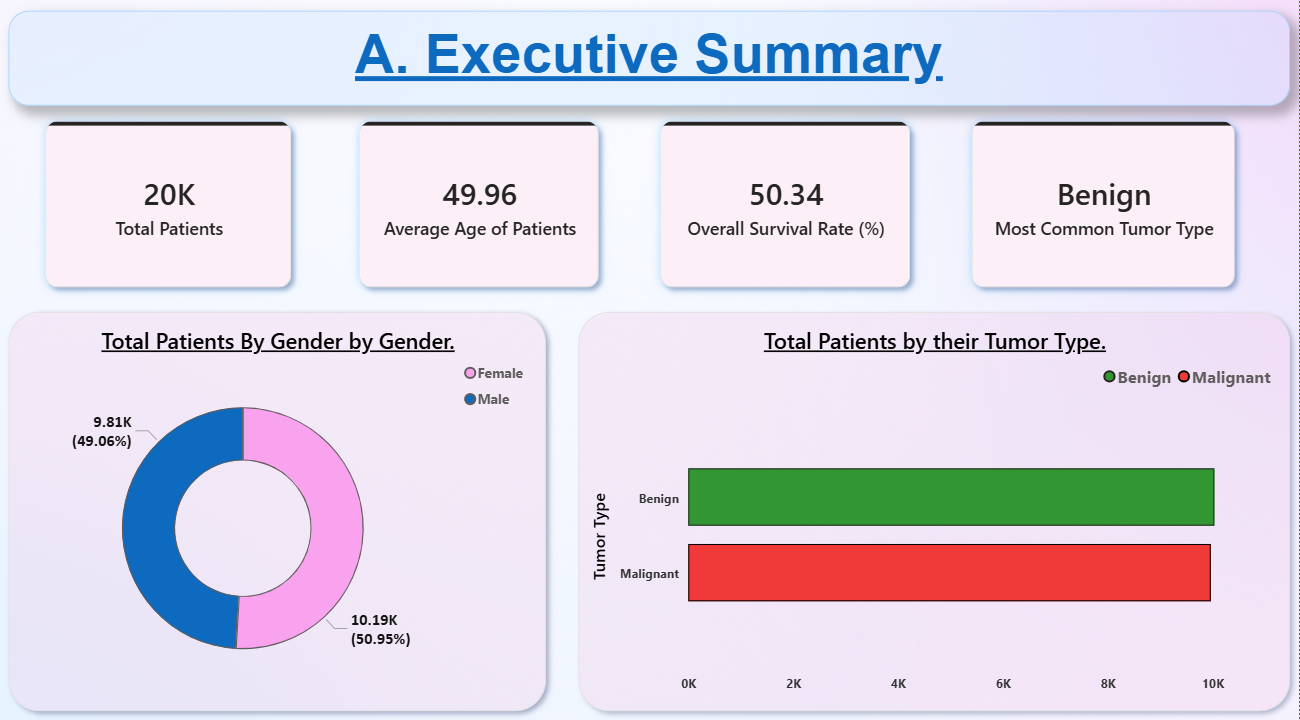

What the dashboard file says about the page in this screenshot:
{"tool":"powerbi","page":{"name":"Quick Summary","canvas":[1280,720],"ordinal":0},"visuals":[{"type":"cardVisual","fields":{"Data":["Count(cancer_diagnosis_data.Patient_ID)"]},"box":[29.3,102.7,288.6,210.3],"z":0},{"type":"textbox","box":[17.1,18.3,1253.4,92.9],"z":1000},{"type":"cardVisual","fields":{"Data":["Avg(cancer_diagnosis_data.Age)"]},"box":[336.3,102.7,282.5,210.3],"z":2000},{"type":"cardVisual","fields":{"Data":["cancer_diagnosis_data.Overall Survival Rate (%)"]},"box":[631,102.7,292.3,210.3],"z":3000},{"type":"cardVisual","fields":{"Data":["Min(cancer_diagnosis_data.Tumor_Type)"]},"box":[935.5,102.7,305.7,210.3],"z":4000},{"type":"donutChart","title":"Total Patients By Gender by Gender.","fields":{"Category":["cancer_diagnosis_data.Gender"],"Y":["CountNonNull(cancer_diagnosis_data.Gender)"]},"box":[17.1,313,525.8,390.1],"z":5000},{"type":"barChart","title":"Total Patients by their Tumor Type.","fields":{"Category":["cancer_diagnosis_data.Tumor_Type"],"Y":["CountNonNull(cancer_diagnosis_data.Patient_ID)"],"Series":["cancer_diagnosis_data.Tumor_Type"]},"box":[574.7,313,695.8,390.1],"z":6000}]}

Visuals, with their boxes in screenshot pixels (x1, y1, x2, y2), scaled from the page's 1280x720 canvas onto the 1300x720 screenshot:
cardVisual - Count(cancer_diagnosis_data.Patient_ID): <bbox>30, 103, 323, 313</bbox>
textbox: <bbox>17, 18, 1290, 111</bbox>
cardVisual - Avg(cancer_diagnosis_data.Age): <bbox>342, 103, 628, 313</bbox>
cardVisual - cancer_diagnosis_data.Overall Survival Rate (%): <bbox>641, 103, 938, 313</bbox>
cardVisual - Min(cancer_diagnosis_data.Tumor_Type): <bbox>950, 103, 1261, 313</bbox>
"Total Patients By Gender by Gender." donutChart: <bbox>17, 313, 551, 703</bbox>
"Total Patients by their Tumor Type." barChart: <bbox>584, 313, 1290, 703</bbox>
